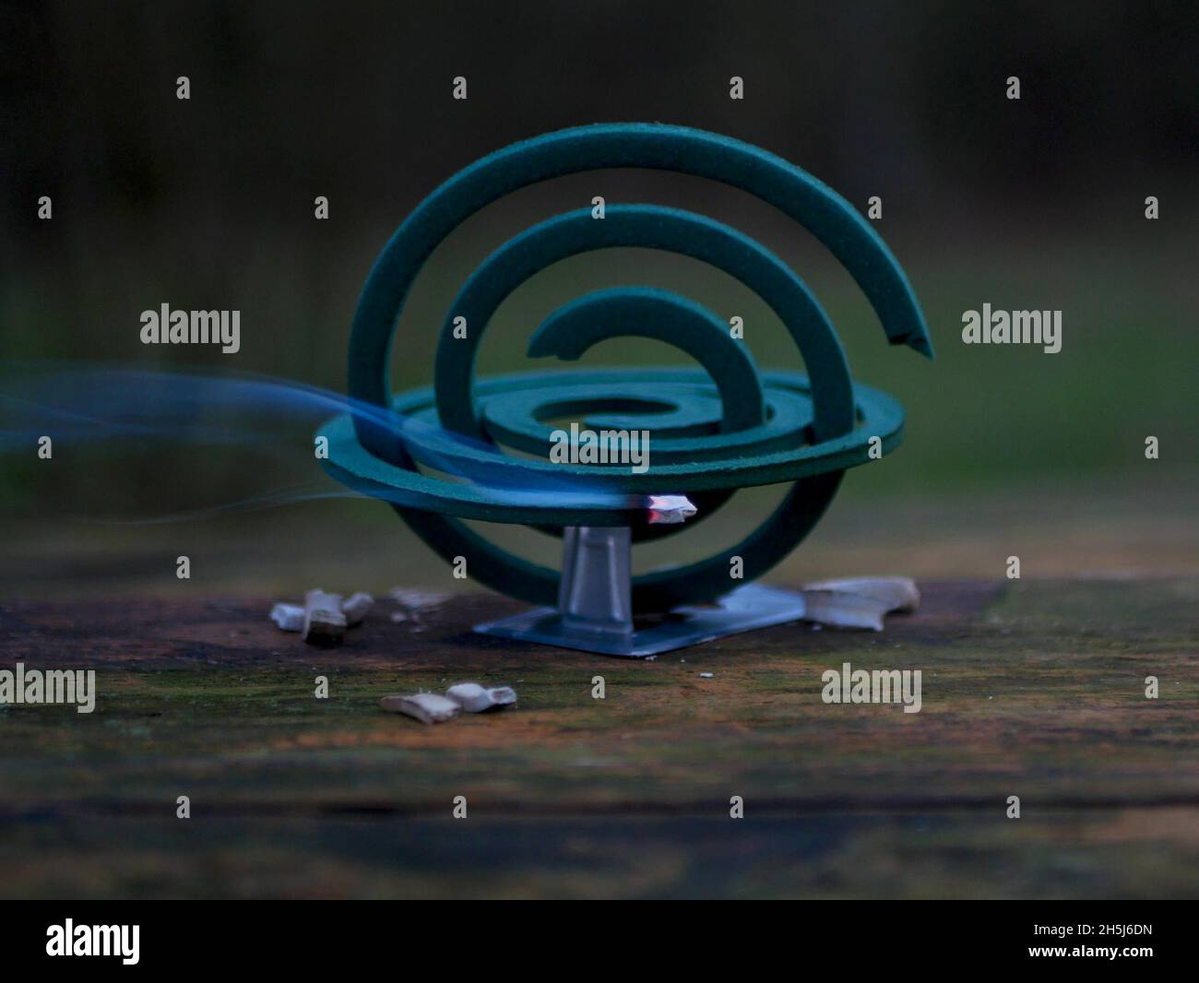Open-Flame-Hazard: (295, 93, 957, 685)
